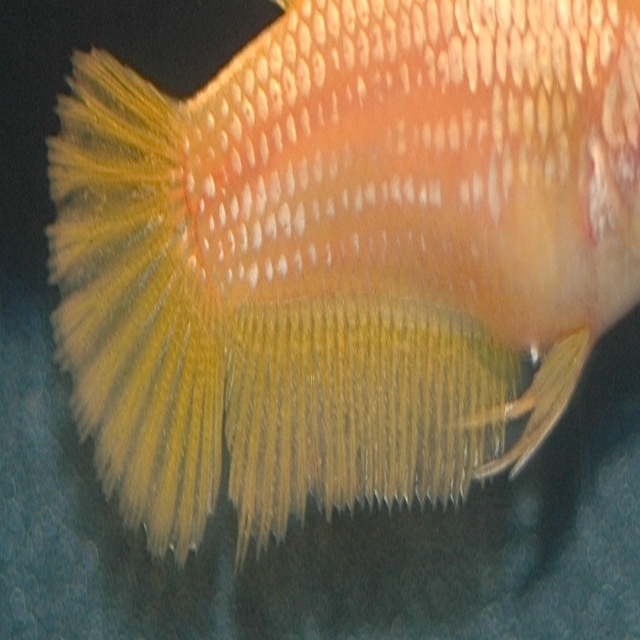Fish: (45, 0, 639, 567)
